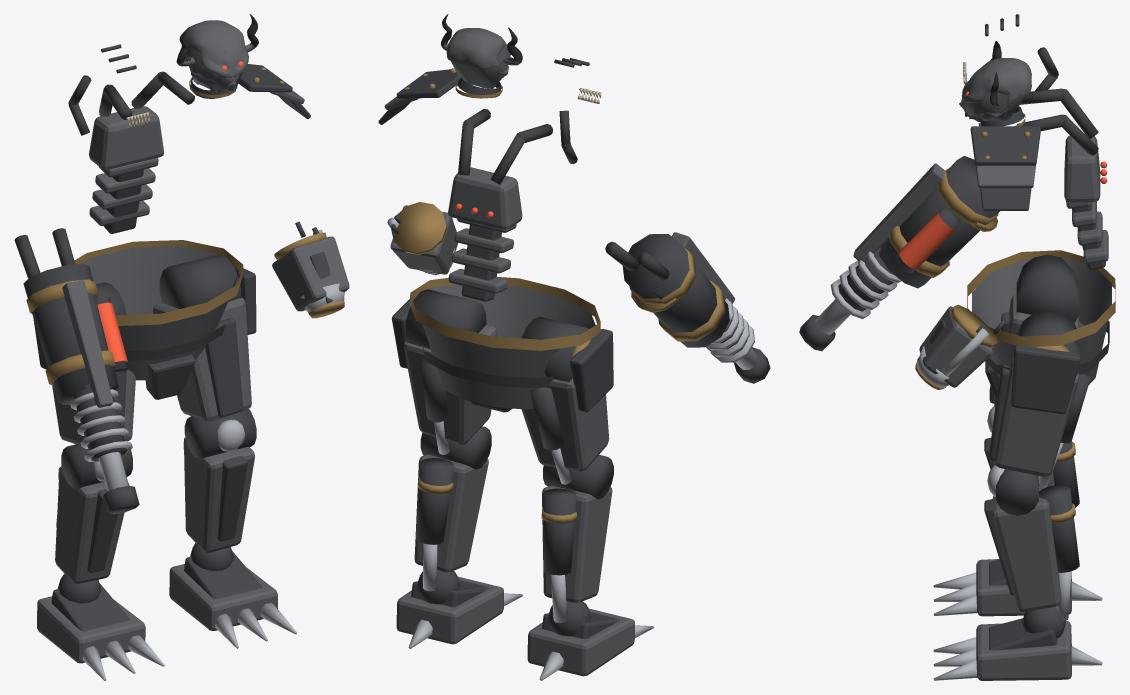
File: twinhead-parts.glb
3 renders of one model, left to right at view 1: azimuth 30°, elevation 25°; view 2: azimuth 150°, elevation 25°; view 3: azimuth 270°, elevation 25°, orthographic.
Visible parts, largest first — view 1: forearm.r|cannon, pelvis|cup, shin.l|shinplate, shin.r|shinplate, skull|demonskull, spine2|powerunit, thigh.l|thighplate, foot.r|foot, foot.l|foot, pelvis|hipdrum, forearm.l|sleeve, pelvis|cuprim (+21 smaller); view 2: forearm.r|cannon, pelvis|cup, thigh.r|thighplate, shin.r|shinplate, shin.l|shinplate, foot.l|foot, foot.r|foot, pelvis|cuprim, spine2|powerunit, thigh.l|thighplate, pelvis|hipdrum, thigh.r|hipflap (+26 smaller); view 3: forearm.r|cannon, shin.l|shinplate, pelvis|cup, thigh.l|thighplate, thigh.l|hipflap, foot.l|foot, pelvis|hipdrum.001, skull|demonskull, clavicle.l|pauldron0, pelvis|cuprim, forearm.l|sleeve, spine2|powerunit (+25 smaller).
Part boxes in pixels (x1,y1,x2,y2): forearm.r|cannon: (14,228,139,514); pelvis|cup: (80,246,238,380); shin.l|shinplate: (184,438,254,552); shin.r|shinplate: (55,466,129,583); skull|demonskull: (176,14,258,94); spine2|powerunit: (89,106,163,169); thigh.l|thighplate: (152,297,251,421); foot.r|foot: (37,596,145,663); foot.l|foot: (169,564,277,630); pelvis|hipdrum: (159,254,241,308); forearm.l|sleeve: (272,236,349,311); pelvis|cuprim: (74,240,243,325); forearm.r|cannon: (605,232,770,383); pelvis|cup: (413,284,595,409); thigh.r|thighplate: (521,378,609,471); shin.r|shinplate: (542,485,612,603); shin.l|shinplate: (414,454,488,572); foot.l|foot: (396,576,503,644); foot.r|foot: (527,608,634,676); pelvis|cuprim: (410,277,600,350); spine2|powerunit: (448,167,522,229); thigh.l|thighplate: (403,324,497,444); pelvis|hipdrum: (405,289,486,349); thigh.r|hipflap: (570,329,613,412); forearm.r|cannon: (799,156,999,351); shin.l|shinplate: (992,485,1061,611); pelvis|cup: (972,257,1111,385); thigh.l|thighplate: (994,358,1078,476); thigh.l|hipflap: (1011,345,1080,413); foot.l|foot: (976,620,1071,680); pelvis|hipdrum.001: (1016,254,1079,323); skull|demonskull: (959,41,1031,121); clavicle.l|pauldron0: (970,126,1040,165); pelvis|cuprim: (967,250,1115,346); forearm.l|sleeve: (919,306,992,387); spine2|powerunit: (1064,135,1100,202).
Size of the model in its own units: 1.15 by 2.18 by 1.03.
